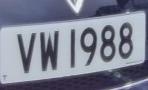1: (65, 22, 81, 76)
8: (98, 19, 119, 68), (117, 17, 137, 66)
9: (78, 21, 100, 73)
V: (14, 29, 39, 78)
W: (38, 26, 63, 78)
